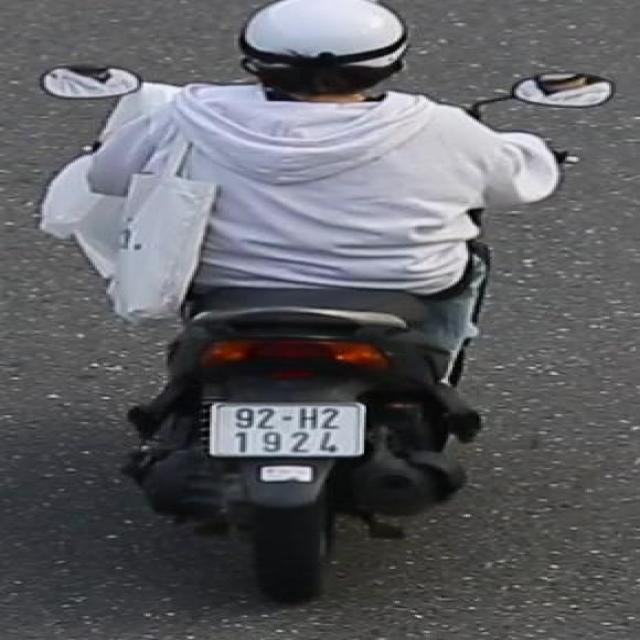LP: (206, 402, 370, 459)
helmet: (222, 0, 434, 126)
